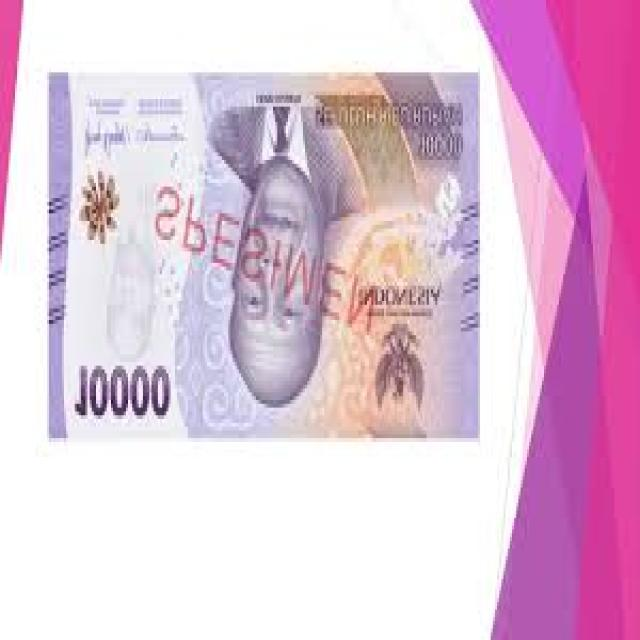sepuluh ribu rupiah: (36, 65, 476, 453)
